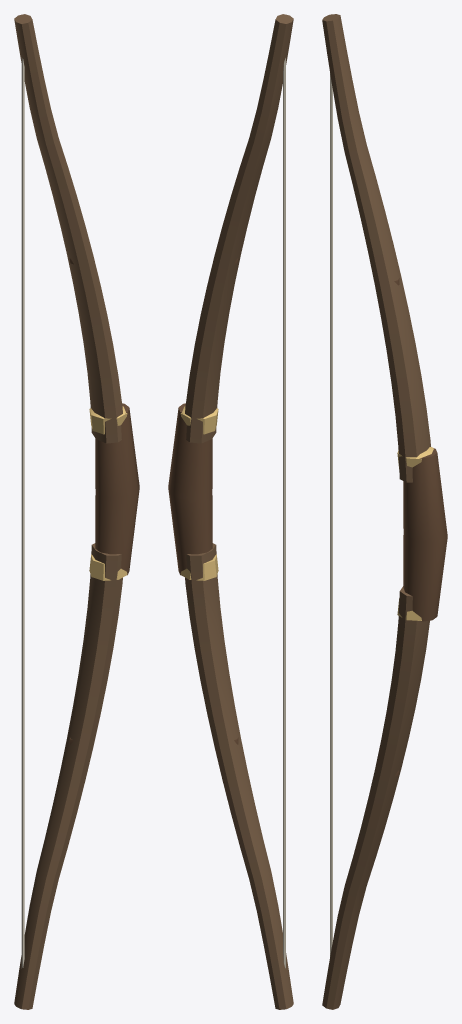
The model's file is depth_thornwing_bow.glb.
The picture shows the model from 3 angles, left to right: view 1: azimuth 30°, elevation 25°; view 2: azimuth 150°, elevation 25°; view 3: azimuth 330°, elevation 25°; orthographic projection.
Visible parts, largest first — view 1: depth_thornwing_bow; view 2: depth_thornwing_bow; view 3: depth_thornwing_bow.
Boxes of the visible parts, x1,y1,x2,y2 form: depth_thornwing_bow: (14,14,139,1009); depth_thornwing_bow: (168,14,293,1009); depth_thornwing_bow: (322,14,447,1009).
Bounding box in the file's own units: 0.1561 × 1.22 × 0.044.
